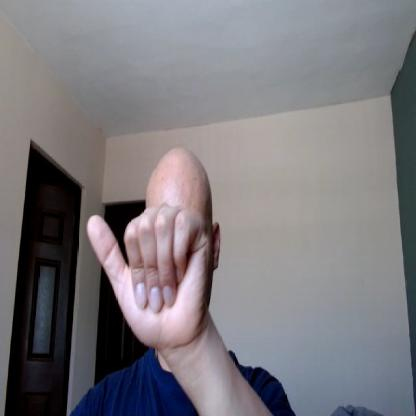A: (87, 200, 213, 353)
